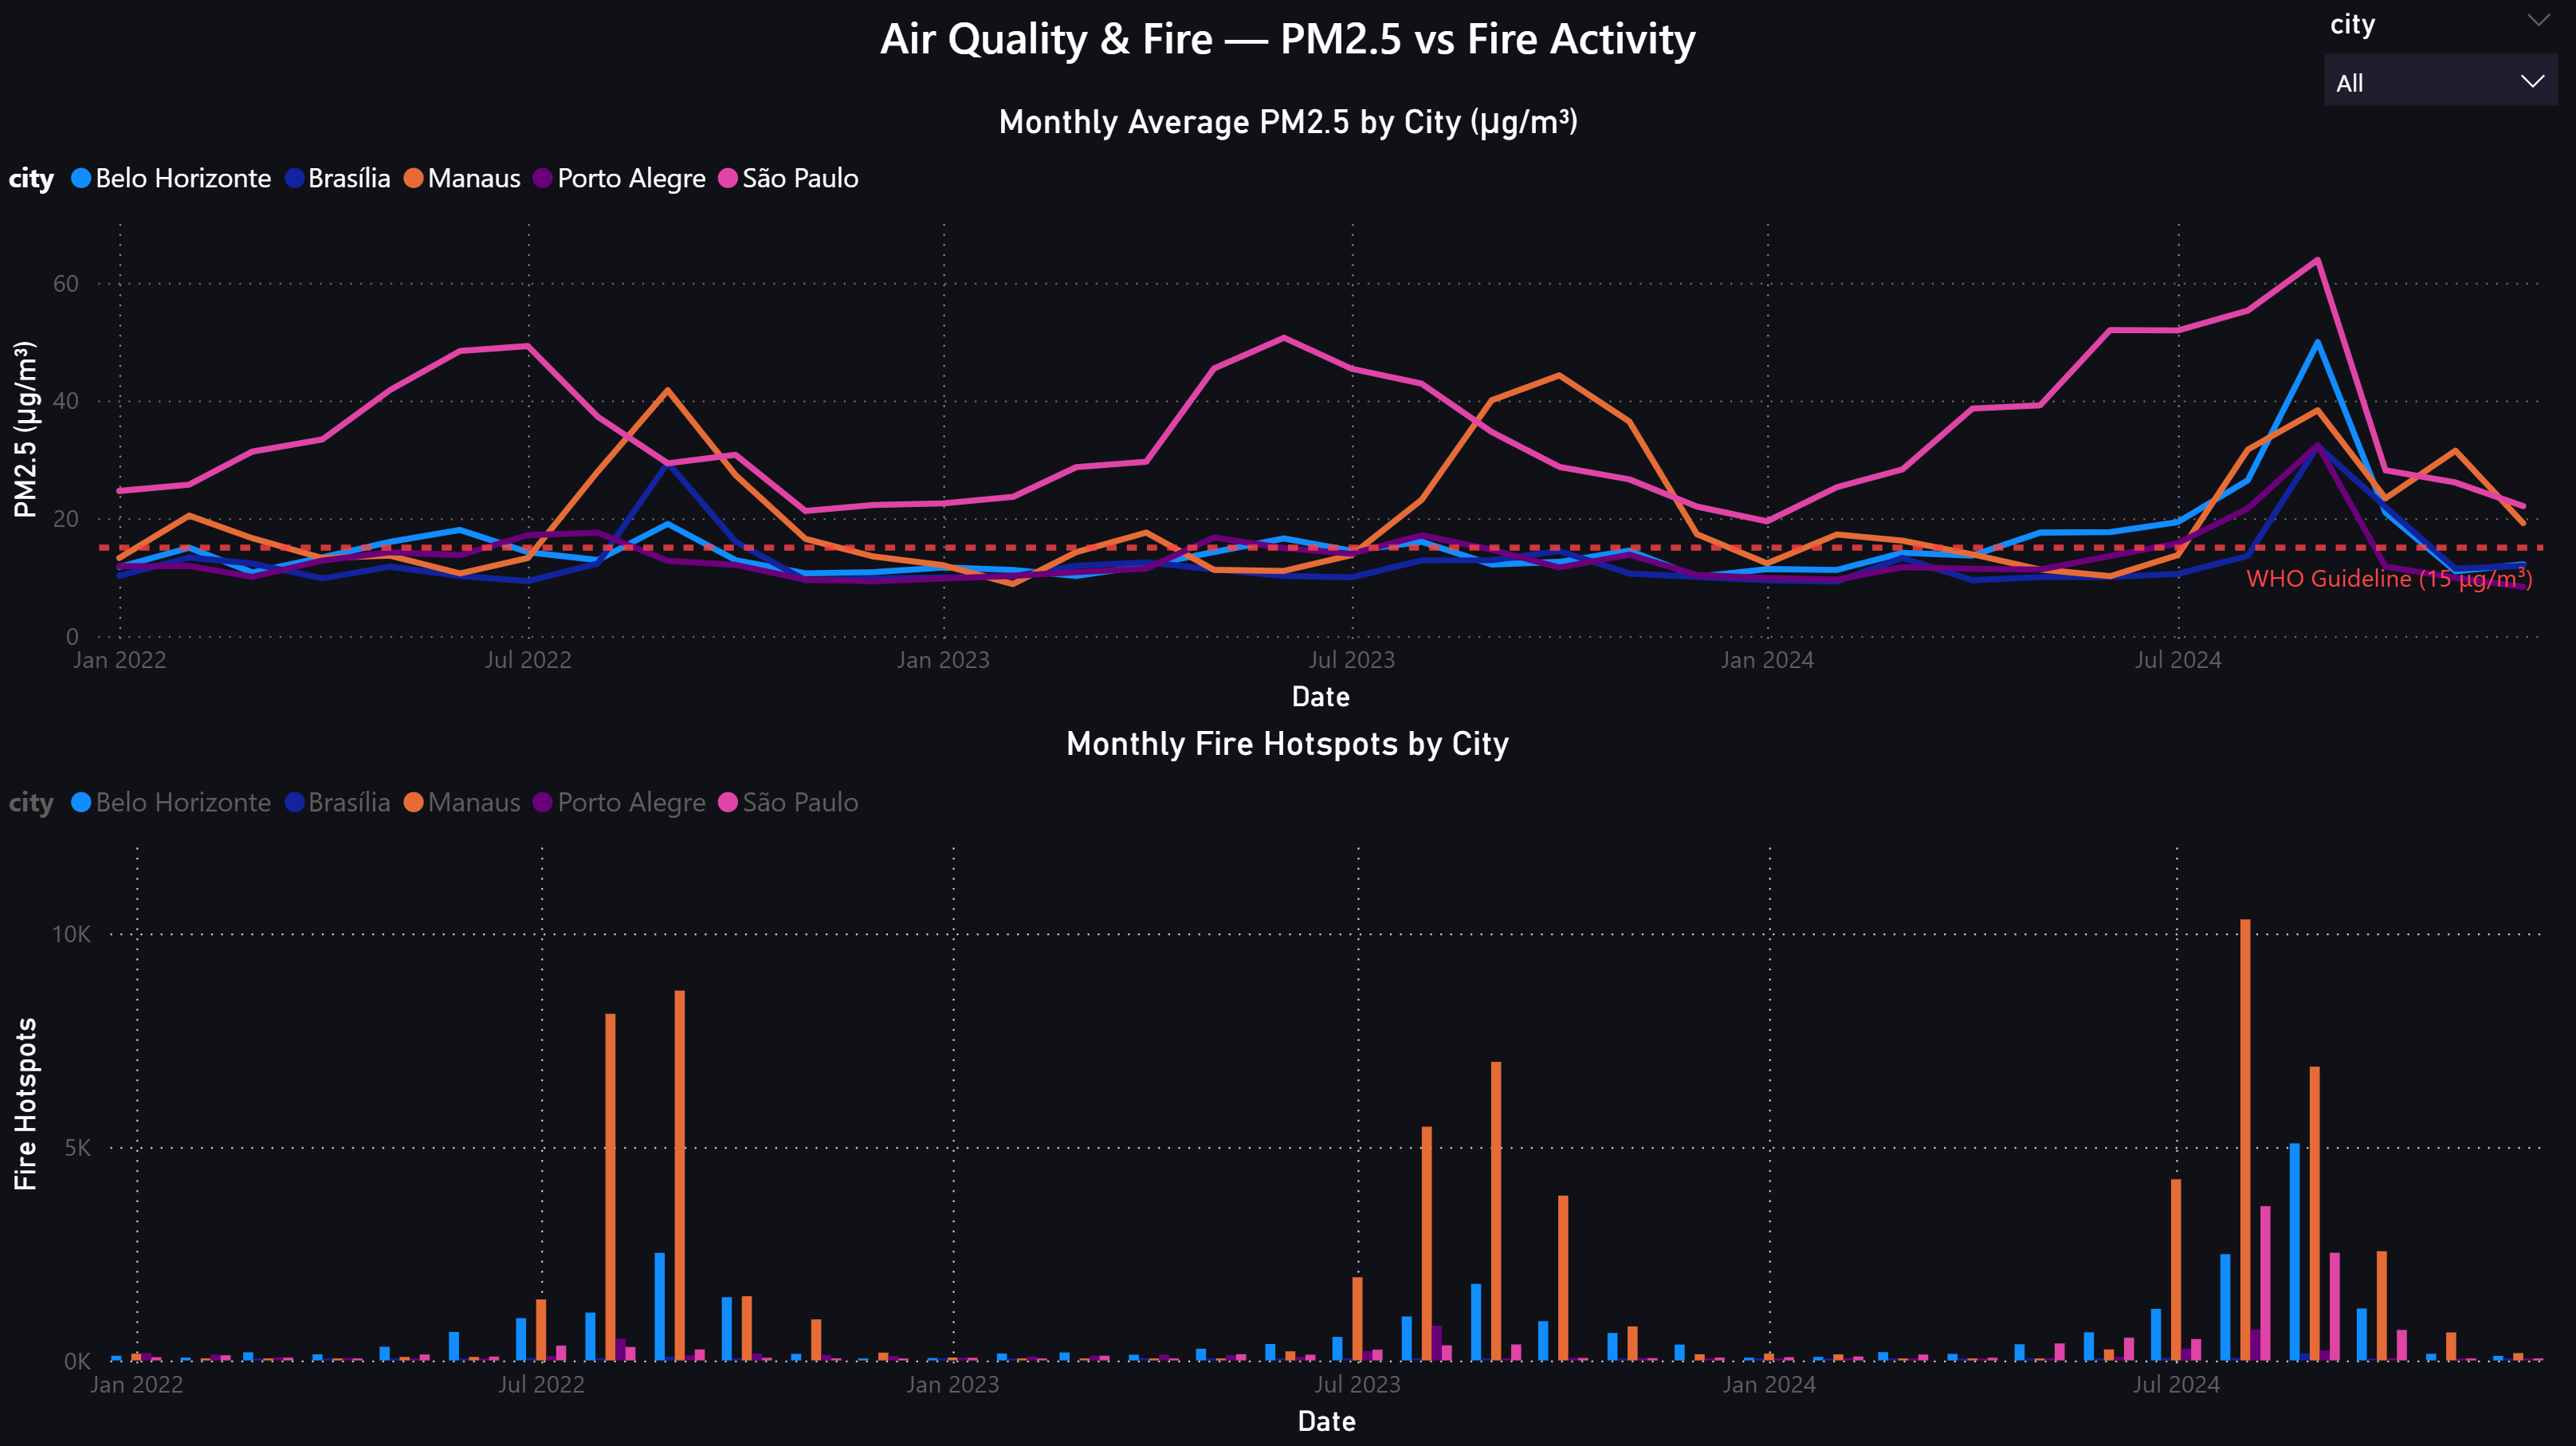

The dashboard page shown, as its layout file describes it:
{"tool":"powerbi","page":{"name":"Air Quality & Fire","canvas":[1280,720],"ordinal":1},"visuals":[{"type":"textbox","box":[0,0,1280,100.2],"z":0},{"type":"lineChart","title":"Monthly Average PM2.5 by City (μg/m³)","fields":{"Y":["Avg(integrated.pm25_ugm3)"],"Series":["Table.city"],"Category":["integrated.month_start","integrated.date"]},"box":[0,50.4,1280,309.8],"z":1000},{"type":"clusteredColumnChart","title":"Monthly Fire Hotspots by City","fields":{"Category":["integrated.month_start","integrated.date"],"Y":["Sum(integrated.hotspot_count)"],"Series":["Table.city"]},"box":[0,360.3,1280,359.6],"z":2000},{"type":"slicer","fields":{"Values":["Table.city"]},"box":[1144.4,0,135.6,62.2],"z":3000}]}

Visuals, with their boxes in screenshot pixels (x1, y1, x2, y2), scaled from the page's 1280x720 canvas onto the 2576x1446 screenshot:
textbox: [left=0, top=0, right=2575, bottom=201]
"Monthly Average PM2.5 by City (μg/m³)" lineChart: [left=0, top=101, right=2575, bottom=724]
"Monthly Fire Hotspots by City" clusteredColumnChart: [left=0, top=724, right=2575, bottom=1445]
slicer - Table.city: [left=2303, top=0, right=2575, bottom=125]
